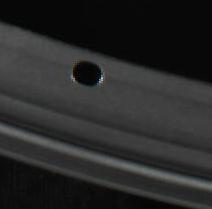holes: (70, 59, 104, 86)
